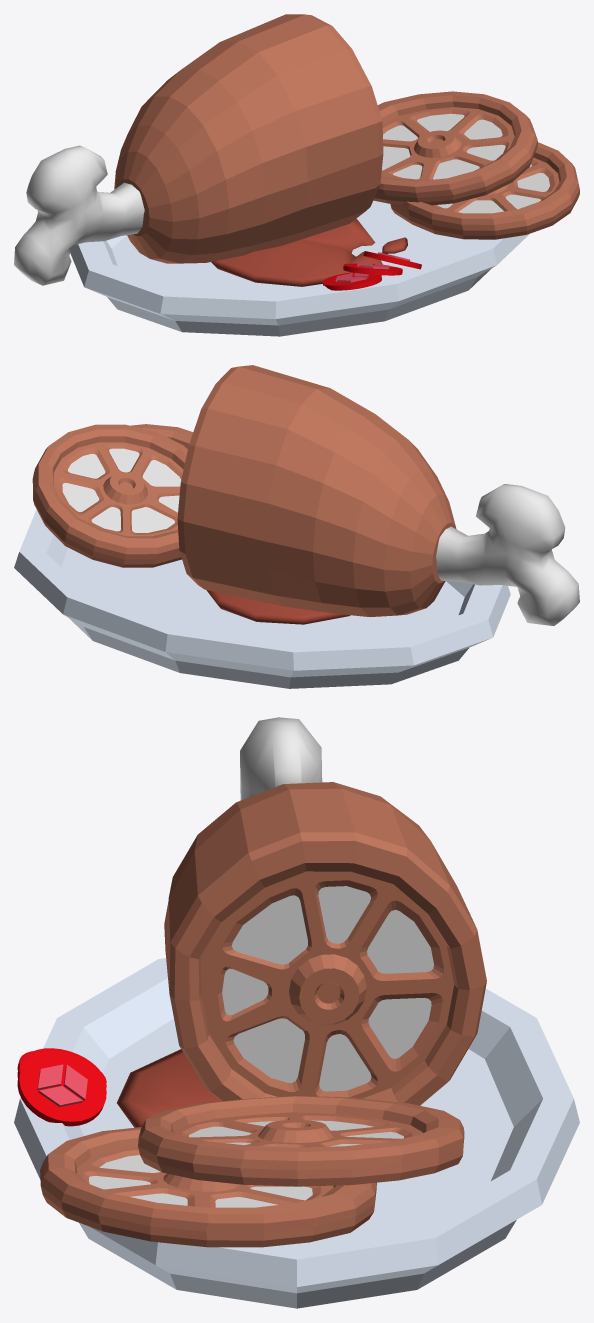
Rendered from CarneSinCortar.fbx.
3 views of the same model, one above another, from view 1: azimuth 30°, elevation 25°; view 2: azimuth 150°, elevation 25°; view 3: azimuth 270°, elevation 25° (orthographic). The views are drawn at different scales.
Visible parts, largest first — view 1: Ham_Drumstick, Cylinder, Cylinder.002, Cylinder.001, Circle, Plane, Plane.001, Plane.002; view 2: Ham_Drumstick, Cylinder, Cylinder.002, Circle, Cylinder.001; view 3: Ham_Drumstick, Cylinder, Cylinder.002, Cylinder.001, Plane.002, Circle.
Part boxes in pixels (bbox=[...]): Ham_Drumstick: bbox=[14, 14, 383, 285]; Cylinder: bbox=[70, 200, 529, 336]; Cylinder.002: bbox=[373, 91, 537, 205]; Cylinder.001: bbox=[390, 142, 579, 239]; Circle: bbox=[211, 219, 407, 286]; Plane: bbox=[322, 272, 381, 290]; Plane.001: bbox=[343, 263, 402, 275]; Plane.002: bbox=[363, 251, 421, 269]; Ham_Drumstick: bbox=[177, 365, 579, 625]; Cylinder: bbox=[14, 509, 510, 688]; Cylinder.002: bbox=[32, 424, 187, 567]; Circle: bbox=[206, 590, 349, 624]; Cylinder.001: bbox=[131, 424, 192, 448]; Ham_Drumstick: bbox=[164, 717, 486, 1105]; Cylinder: bbox=[14, 958, 579, 1308]; Cylinder.002: bbox=[138, 1096, 464, 1186]; Cylinder.001: bbox=[40, 1127, 376, 1247]; Plane.002: bbox=[17, 1051, 106, 1126]; Circle: bbox=[117, 1049, 220, 1127].
Bounding box in the file's own units: 61.85 × 26.29 × 38.26.
